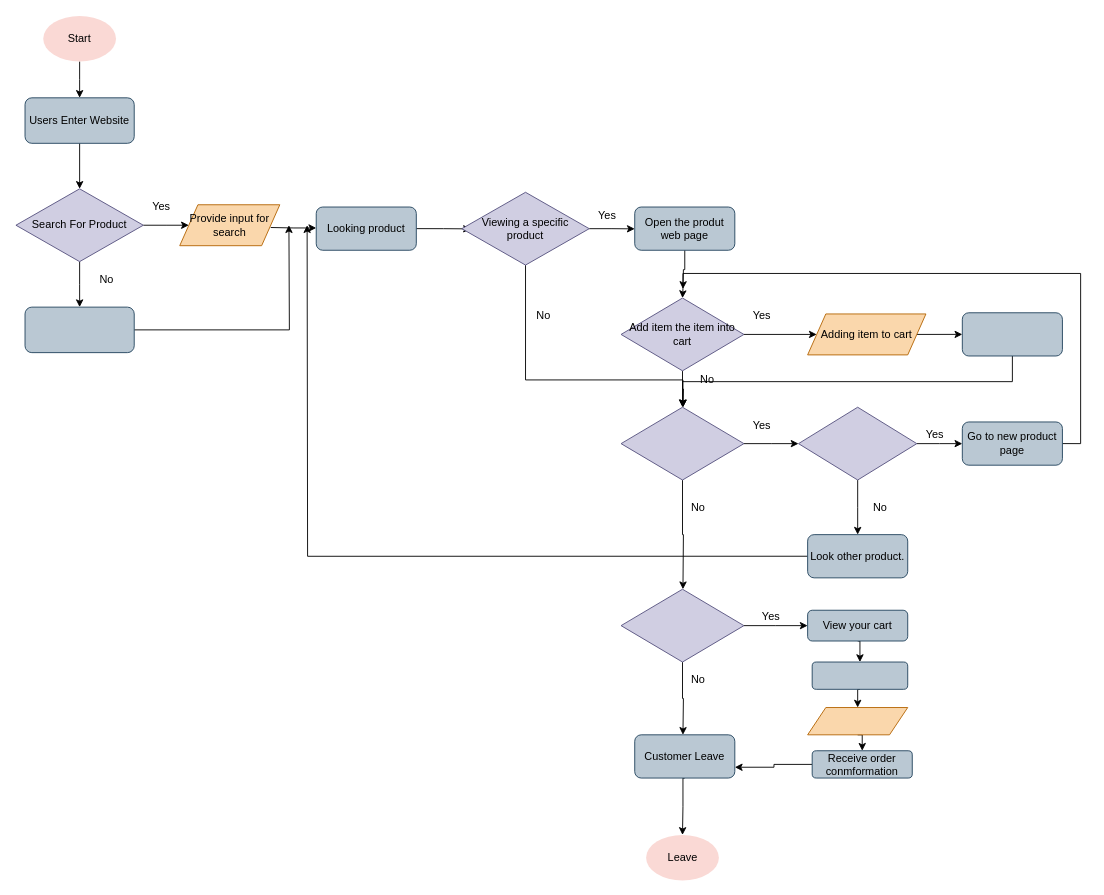
The diagram is 1104 pixels wide and 895 high, and some of its shapes have lost their labels. The shapes that lost their labels are listed below. From the top down, each one's centre as x and y in pixels, then its label:
At pixel 79 329: "Explore Product at home page".
At pixel 1011 334: "Please confirm to cart".
At pixel 682 443: "Do you want to continue ?".
At pixel 857 443: "Searching for new Product?".
At pixel 682 625: "Do you want to checkout?".
At pixel 859 675: "View your payment".
At pixel 857 721: "Input payment Information".
